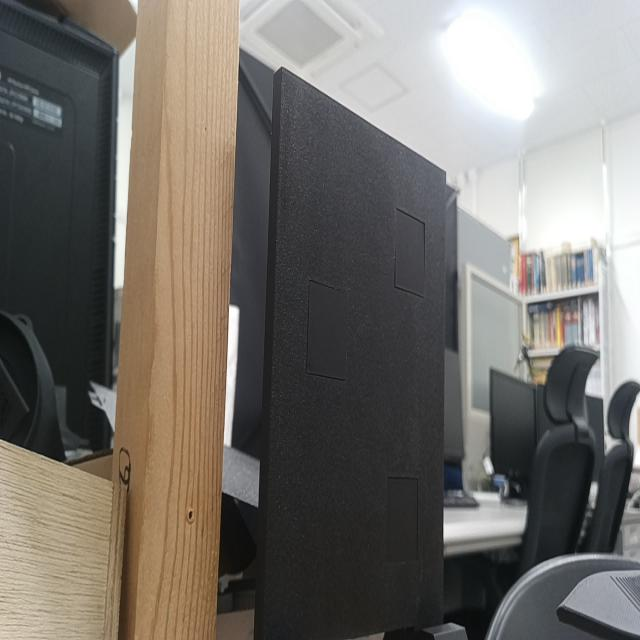Wall: (263, 67, 446, 639)
